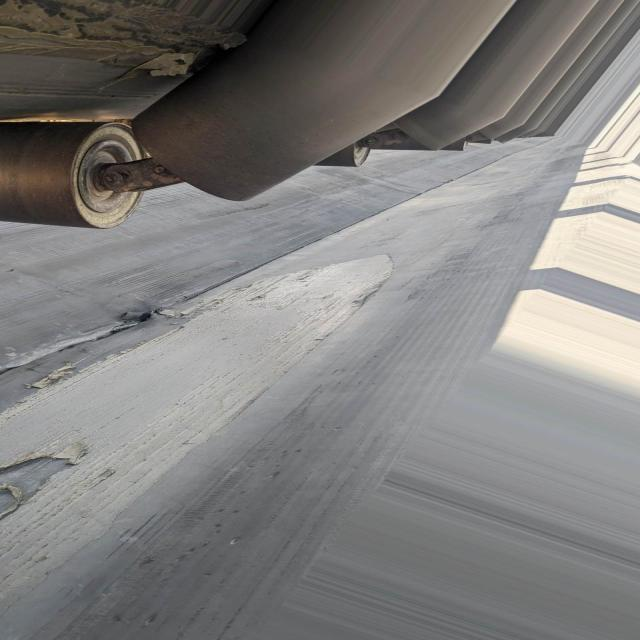Roller: (131, 37, 422, 210), (0, 123, 144, 227)
Tear: (0, 311, 186, 415), (0, 453, 68, 521)
